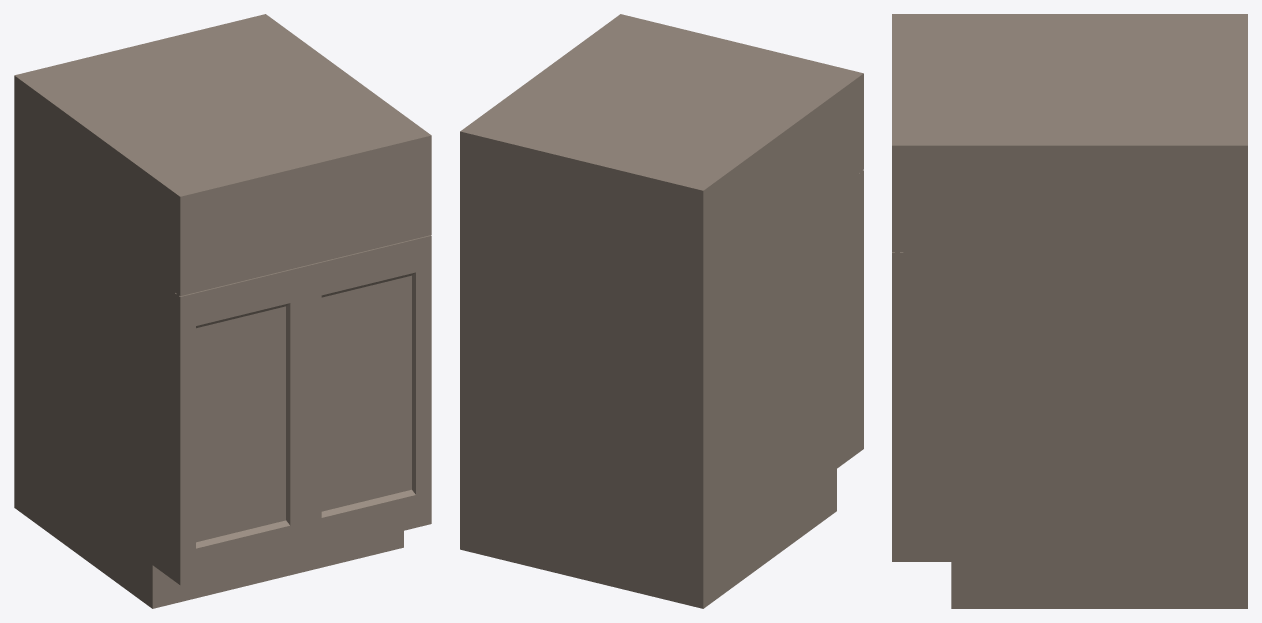
Rendered from Base-Cabinet-Double-Door-Two-Drawer-24-Deep_std_001_W21in.glb.
3 renders of one model, left to right at view 1: azimuth 30°, elevation 25°; view 2: azimuth 150°, elevation 25°; view 3: azimuth 270°, elevation 25°, orthographic. The views are drawn at different scales.
Visible parts, largest first — view 1: Base-Cabinet-Double-Door-Two-Drawer-24-Deep.std.001_W21in; view 2: Base-Cabinet-Double-Door-Two-Drawer-24-Deep.std.001_W21in; view 3: Base-Cabinet-Double-Door-Two-Drawer-24-Deep.std.001_W21in.
Part boxes in pixels (x1=…): Base-Cabinet-Double-Door-Two-Drawer-24-Deep.std.001_W21in: x1=14, y1=14, x2=431, y2=608; Base-Cabinet-Double-Door-Two-Drawer-24-Deep.std.001_W21in: x1=460, y1=14, x2=863, y2=608; Base-Cabinet-Double-Door-Two-Drawer-24-Deep.std.001_W21in: x1=892, y1=14, x2=1247, y2=608.
Size of the model in its own units: 0.5334 by 0.8763 by 0.6096.
